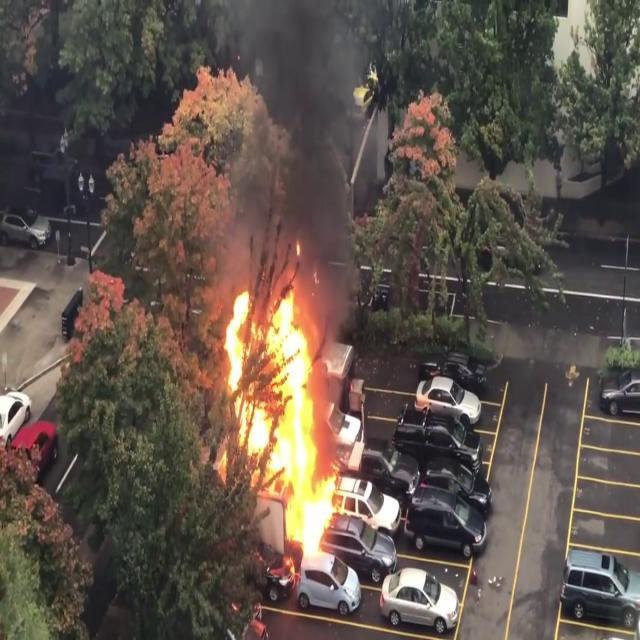Fire: (216, 274, 340, 569)
Smoke: (227, 0, 381, 297)
